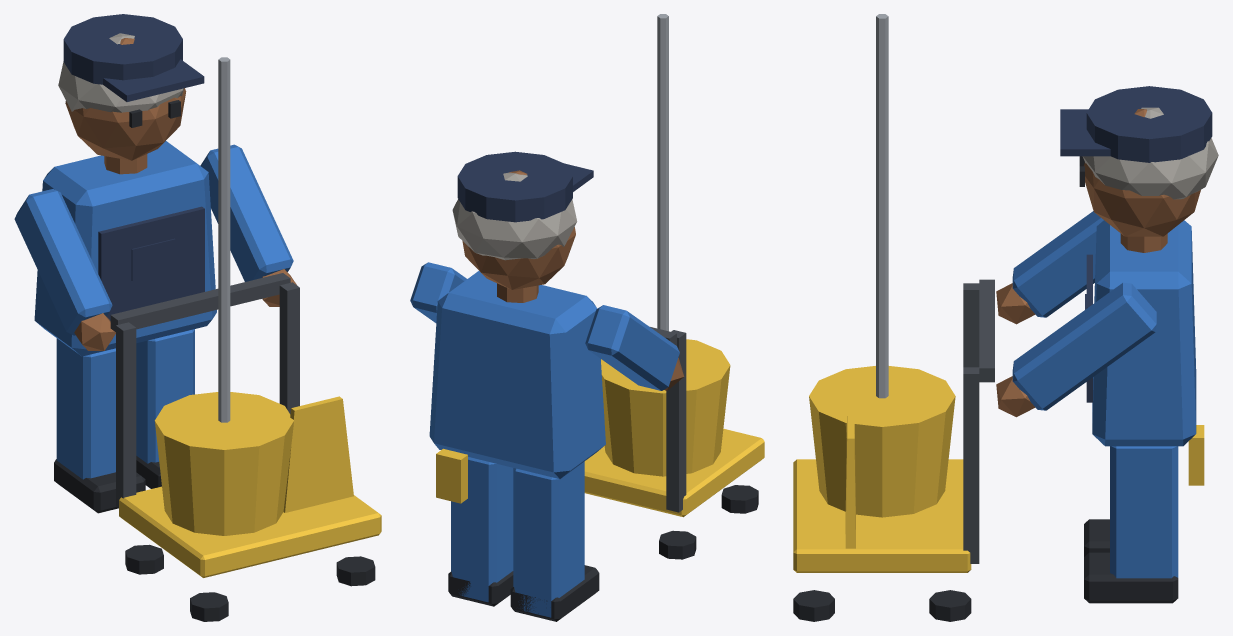
File: cleaner.glb
The picture shows the model from 3 angles, left to right: view 1: azimuth 30°, elevation 25°; view 2: azimuth 150°, elevation 25°; view 3: azimuth 270°, elevation 25°; orthographic projection. The views are drawn at different scales.
Visible parts, largest first — view 1: Props, Body, LegR, ArmR, ArmL, LegL; view 2: Body, Props, LegR, LegL, ArmR, ArmL; view 3: Props, Body, LegL, ArmL, ArmR, LegR.
Part boxes in pixels (bbox=[...]): Props: bbox=[63, 14, 381, 621]; Body: bbox=[34, 33, 216, 356]; LegR: bbox=[54, 338, 145, 513]; ArmR: bbox=[14, 189, 115, 350]; ArmL: bbox=[200, 144, 296, 306]; LegL: bbox=[136, 329, 194, 488]; Body: bbox=[429, 170, 605, 478]; Props: bbox=[436, 14, 764, 559]; LegR: bbox=[510, 461, 599, 621]; LegL: bbox=[448, 457, 513, 606]; ArmR: bbox=[585, 305, 684, 390]; ArmL: bbox=[410, 262, 466, 322]; Props: bbox=[793, 14, 1212, 621]; Body: bbox=[1079, 107, 1218, 446]; LegL: bbox=[1084, 446, 1178, 603]; ArmL: bbox=[996, 282, 1156, 417]; ArmR: bbox=[996, 211, 1103, 324]; LegR: bbox=[1084, 519, 1109, 556].
Size of the model in its own units: 0.7257 by 1.67 by 1.18.
